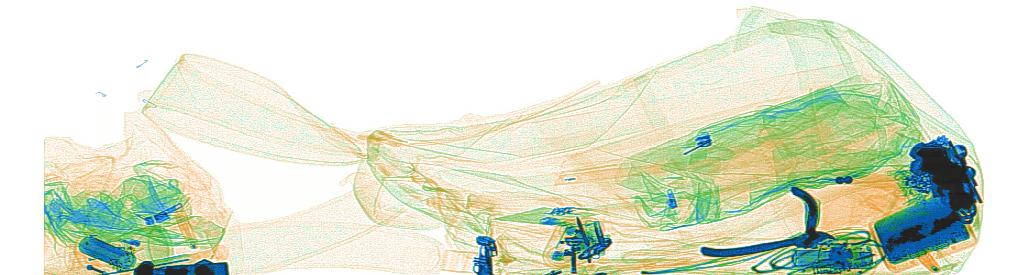battery: (790, 245, 875, 272), (76, 233, 137, 270)
